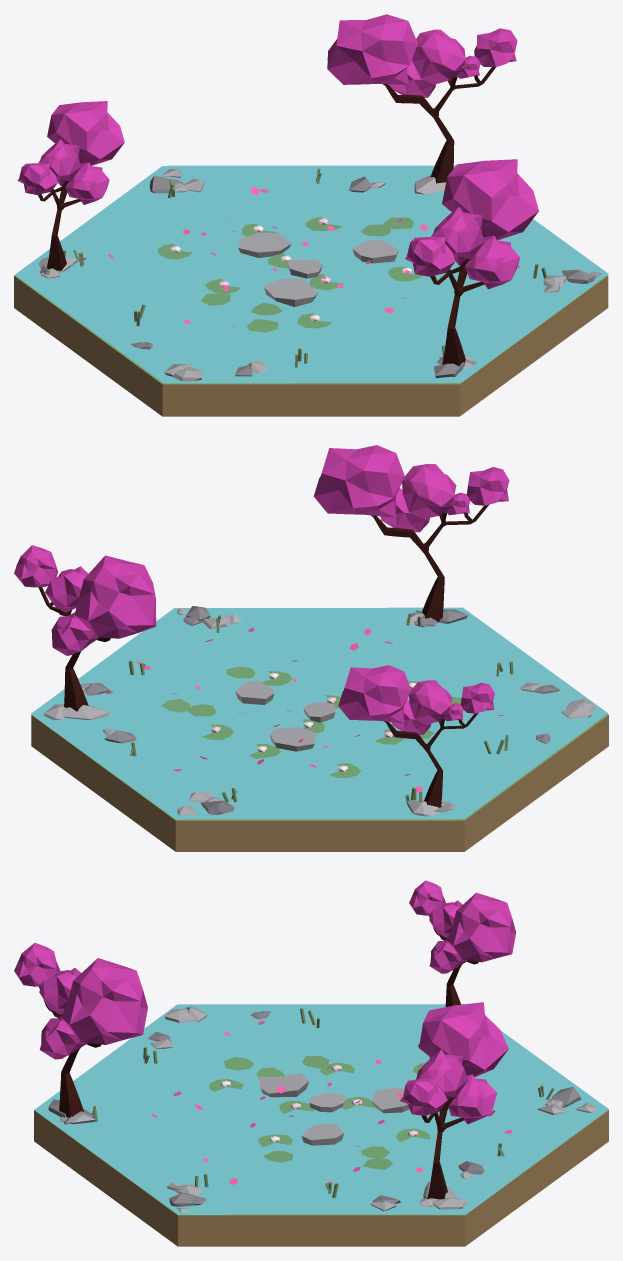
Rendered from pond_keystone_sprint3_pointY.glb.
3 renders of one model, top to bottom at view 1: azimuth 30°, elevation 25°; view 2: azimuth 150°, elevation 25°; view 3: azimuth 270°, elevation 25°, orthographic. The views are drawn at different scales.
Visible parts, largest first — view 1: Circle, FullBase, Tree_Full1_Icosphere.008, Tree_Full1_Icosphere, Tree_Full1_Icosphere.013, Tree_Full1_Icosphere.003, Tree_Full1_Icosphere.009, Tree_Full1_Icosphere.006, Tree_Full1_Cube, Tree_Full1_Icosphere.007, Tree_Full1_Cube.001, Tree_Full1_Icosphere.001 (+9 smaller); view 2: Circle, FullBase, Tree_Full1_Icosphere.008, Tree_Full1_Icosphere, Tree_Full1_Icosphere.013, Tree_Full1_Icosphere.006, Tree_Full1_Cube.001, Tree_Full1_Icosphere.011, Tree_Full1_Icosphere.001, Tree_Full1_Icosphere.007, Tree_Full1_Icosphere.004, Tree_Full1_Icosphere.003 (+6 smaller); view 3: Circle, FullBase, Tree_Full1_Icosphere.008, Tree_Full1_Icosphere, Tree_Full1_Icosphere.013, Tree_Full1_Icosphere.004, Tree_Full1_Icosphere.003, Tree_Full1_Icosphere.007, Tree_Full1_Icosphere.001, Tree_Full1_Icosphere.009, Tree_Full1_Cube, Tree_Full1_Icosphere.006 (+8 smaller).
Boxes of the visible parts, x1,y1,x2,y2 form: Circle: [15, 165, 608, 383]; FullBase: [14, 275, 608, 416]; Tree_Full1_Icosphere.008: [442, 159, 538, 240]; Tree_Full1_Icosphere: [327, 14, 417, 84]; Tree_Full1_Icosphere.013: [47, 101, 124, 165]; Tree_Full1_Icosphere.003: [412, 29, 465, 84]; Tree_Full1_Icosphere.009: [465, 235, 519, 289]; Tree_Full1_Icosphere.006: [431, 206, 484, 265]; Tree_Full1_Cube: [383, 67, 495, 183]; Tree_Full1_Icosphere.007: [405, 237, 455, 276]; Tree_Full1_Cube.001: [430, 259, 484, 366]; Tree_Full1_Icosphere.001: [474, 28, 517, 67]; Circle: [31, 607, 607, 819]; FullBase: [31, 714, 608, 851]; Tree_Full1_Icosphere.008: [313, 445, 404, 517]; Tree_Full1_Icosphere: [74, 555, 156, 638]; Tree_Full1_Icosphere.013: [338, 665, 411, 723]; Tree_Full1_Icosphere.006: [402, 464, 456, 519]; Tree_Full1_Cube.001: [371, 505, 488, 622]; Tree_Full1_Icosphere.011: [409, 680, 452, 724]; Tree_Full1_Icosphere.001: [14, 545, 58, 587]; Tree_Full1_Icosphere.007: [466, 467, 509, 505]; Tree_Full1_Icosphere.004: [51, 612, 98, 655]; Tree_Full1_Icosphere.003: [45, 566, 88, 612]; Circle: [34, 1004, 608, 1214]; FullBase: [34, 1109, 608, 1246]; Tree_Full1_Icosphere.008: [61, 958, 147, 1044]; Tree_Full1_Icosphere: [418, 1002, 508, 1077]; Tree_Full1_Icosphere.013: [447, 892, 516, 962]; Tree_Full1_Icosphere.004: [448, 1074, 496, 1124]; Tree_Full1_Icosphere.003: [416, 1049, 467, 1100]; Tree_Full1_Icosphere.007: [14, 943, 60, 986]; Tree_Full1_Icosphere.001: [400, 1078, 447, 1115]; Tree_Full1_Icosphere.009: [39, 1016, 87, 1059]; Tree_Full1_Cube: [421, 1097, 464, 1199]; Tree_Full1_Icosphere.006: [39, 968, 80, 1014].
Bounding box in the file's own units: 4.77 × 1.93 × 5.18.
